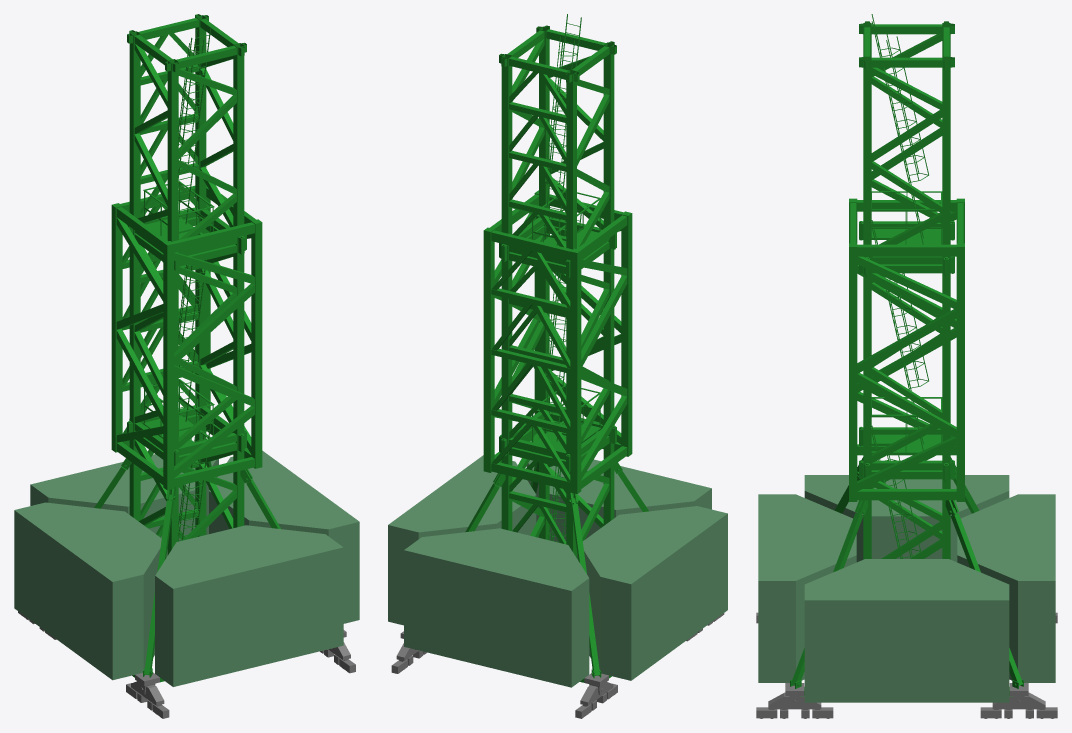
Rendered from towerCrane_concreteBaseWheels.fbx.
3 renders of one model, left to right at view 1: azimuth 30°, elevation 25°; view 2: azimuth 150°, elevation 25°; view 3: azimuth 270°, elevation 25°, orthographic. The views are drawn at different scales.
Visible parts, largest first — view 1: towerCrane_concreteBaseWheels; view 2: towerCrane_concreteBaseWheels; view 3: towerCrane_concreteBaseWheels.
Boxes of the visible parts, left/top/right/bottom form: towerCrane_concreteBaseWheels: left=14, top=14, right=359, bottom=718; towerCrane_concreteBaseWheels: left=388, top=14, right=727, bottom=718; towerCrane_concreteBaseWheels: left=756, top=14, right=1057, bottom=718.
Size of the model in its own units: 883 by 2140 by 897.
